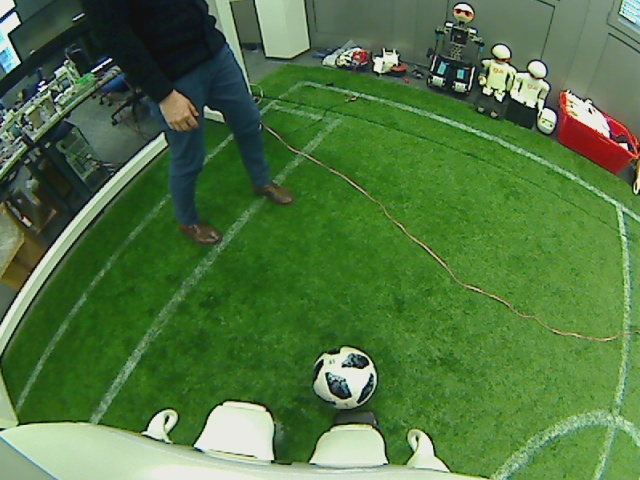ball: (310, 344, 377, 410)
